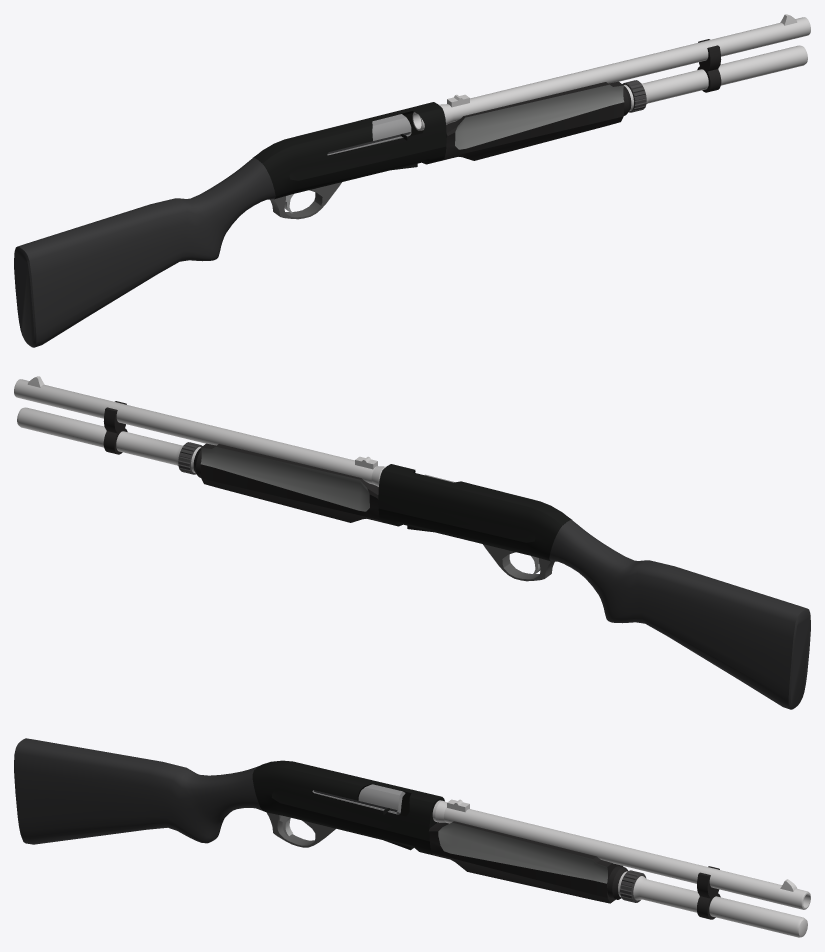
File: Benelli_M2_Mesh.fbx
The picture shows the model from 3 angles, top to bottom: view 1: azimuth 30°, elevation 25°; view 2: azimuth 150°, elevation 25°; view 3: azimuth 330°, elevation 25°; orthographic projection.
Parts seen in each view (by area): view 1: Benelli_M2; view 2: Benelli_M2; view 3: Benelli_M2.
Boxes of the visible parts, x1,y1,x2,y2 form: Benelli_M2: (14,14,810,347); Benelli_M2: (14,376,810,709); Benelli_M2: (14,738,810,937).
Size of the model in its own units: 0.8365 by 0.1483 by 0.0398.
